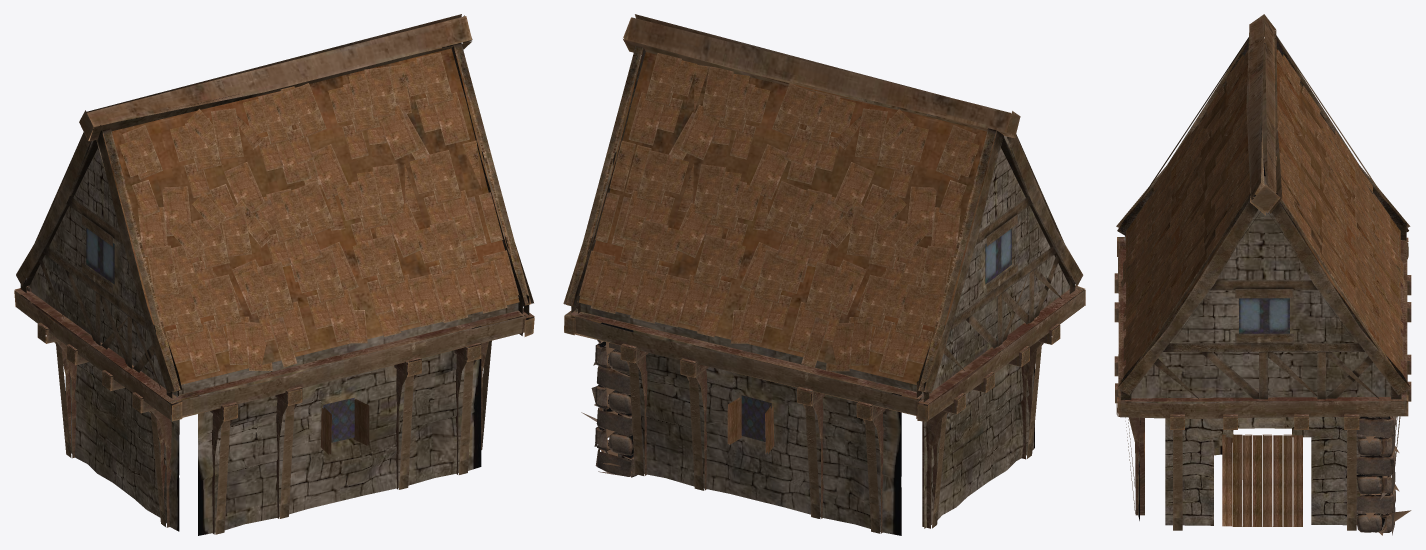
Rendered from house.glb.
3 views of the same model, side by side, from view 1: azimuth 30°, elevation 25°; view 2: azimuth 150°, elevation 25°; view 3: azimuth 270°, elevation 25° (orthographic). The views are drawn at different scales.
Parts seen in each view (by area): view 1: defaultMaterial.002, defaultMaterial, defaultMaterial.004, defaultMaterial.003; view 2: defaultMaterial.002, defaultMaterial, defaultMaterial.004, defaultMaterial.003, defaultMaterial.001; view 3: defaultMaterial.002, defaultMaterial, defaultMaterial.004, defaultMaterial.003, defaultMaterial.001.
Boxes of the visible parts, x1,y1,x2,y2 form: defaultMaterial.002: (27, 14, 519, 384); defaultMaterial: (28, 141, 523, 535); defaultMaterial.004: (14, 228, 534, 534); defaultMaterial.003: (16, 42, 533, 408); defaultMaterial.002: (577, 14, 1070, 384); defaultMaterial: (575, 136, 1069, 535); defaultMaterial.004: (564, 228, 1085, 533); defaultMaterial.003: (563, 46, 1083, 407); defaultMaterial.001: (581, 322, 637, 477); defaultMaterial.002: (1121, 14, 1405, 376); defaultMaterial: (1124, 45, 1390, 525); defaultMaterial.004: (1114, 237, 1411, 530); defaultMaterial.003: (1116, 34, 1410, 402); defaultMaterial.001: (1356, 416, 1411, 535).
Size of the model in its own units: 3.02 by 3.03 by 2.21.
Materials: 5 (5 with a texture image).
